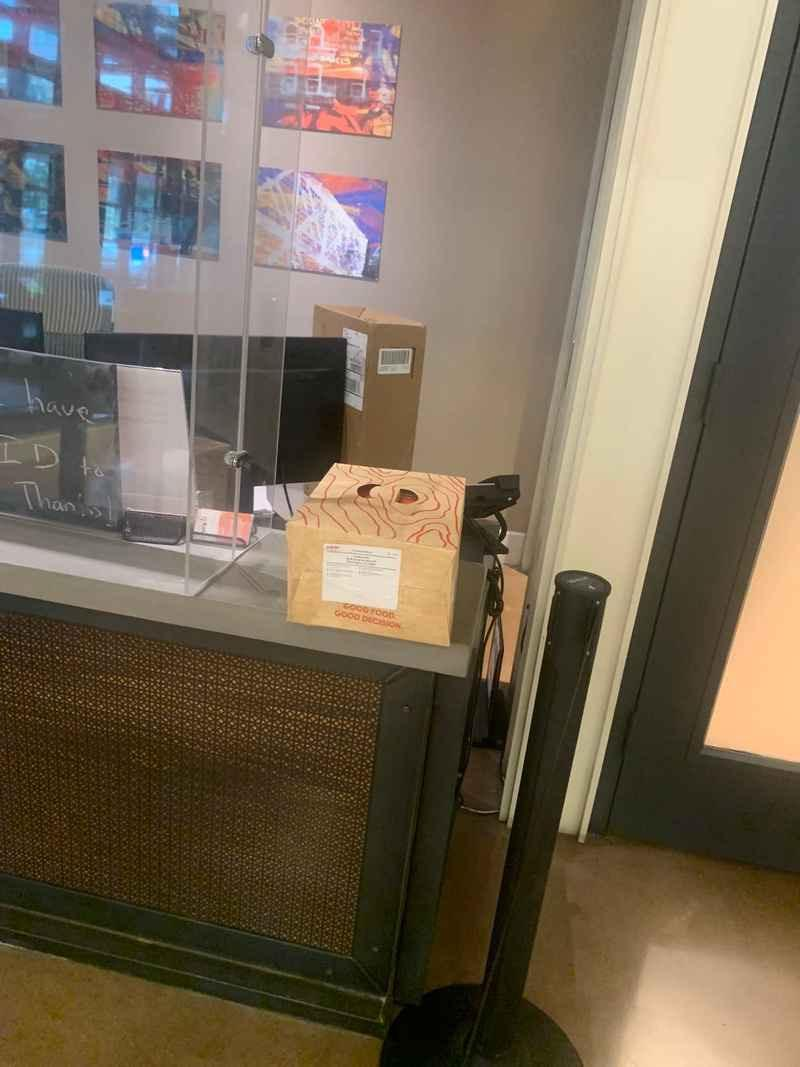package: (285, 460, 472, 652)
